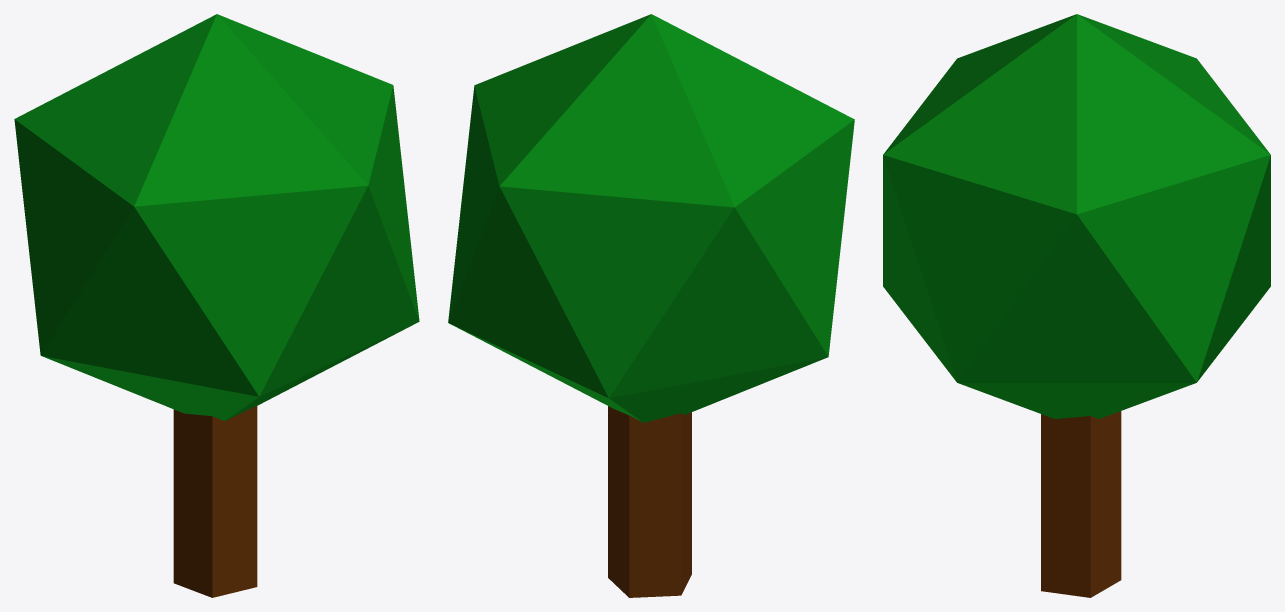
The model's file is Tree.fbx.
3 views of the same model, side by side, from view 1: azimuth 30°, elevation 25°; view 2: azimuth 150°, elevation 25°; view 3: azimuth 270°, elevation 25° (orthographic).
Visible parts, largest first — view 1: Leaves, Trunk; view 2: Leaves, Trunk; view 3: Leaves, Trunk.
Part boxes in pixels (x1,y1,x2,y2): Leaves: (14, 14, 419, 420); Trunk: (173, 405, 257, 597); Leaves: (448, 14, 854, 422); Trunk: (608, 406, 691, 597); Leaves: (883, 14, 1270, 418); Trunk: (1041, 411, 1121, 597).
Size of the model in its own units: 96.6 by 148 by 91.87.
